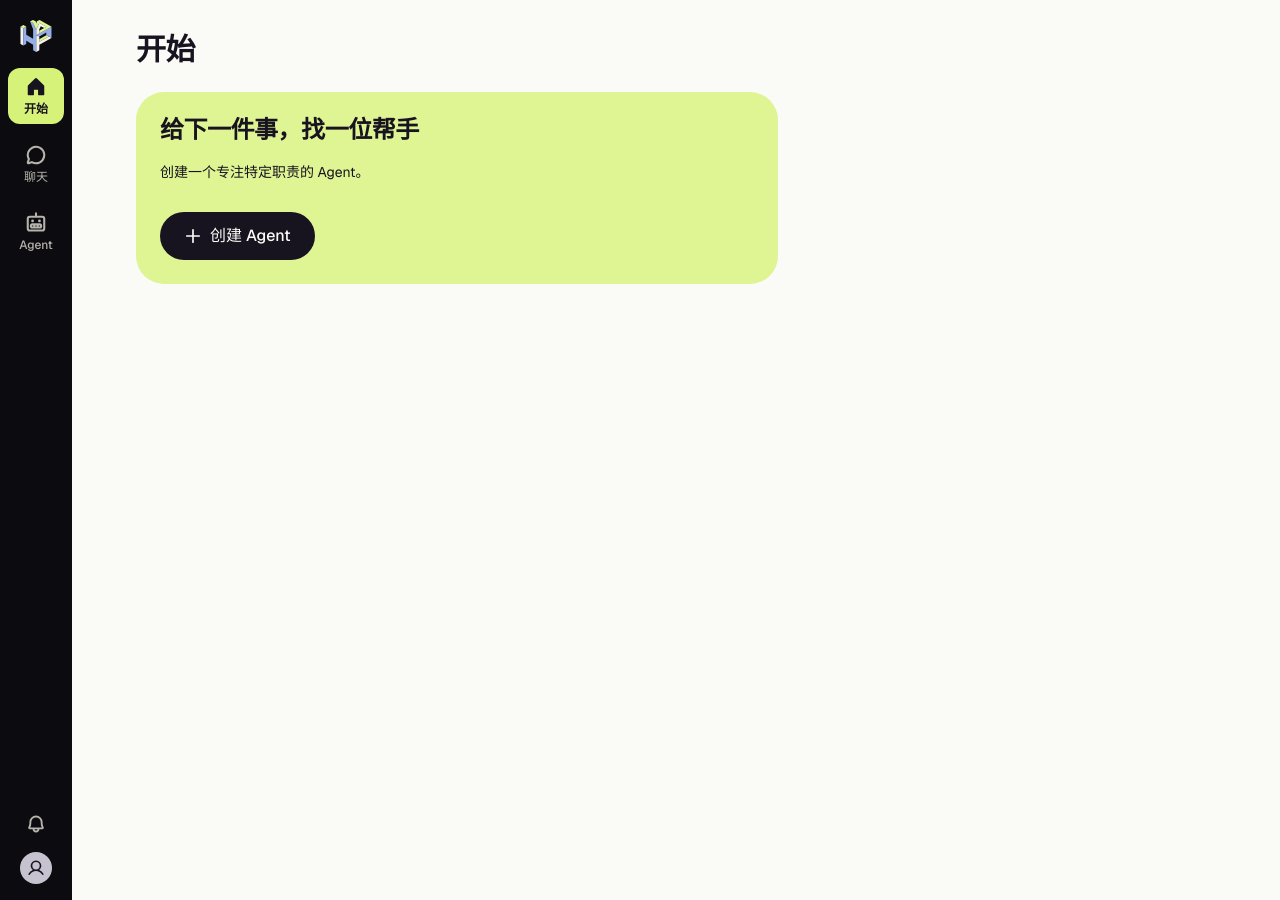
Scenario: J3 three entries › TC-001 opens the chat page from the main navigation and keeps one surface
The width and height of the screenshot is (1280, 900).
Click the button "聊天": click(36, 164) x1=8 y1=136 x2=64 y2=192
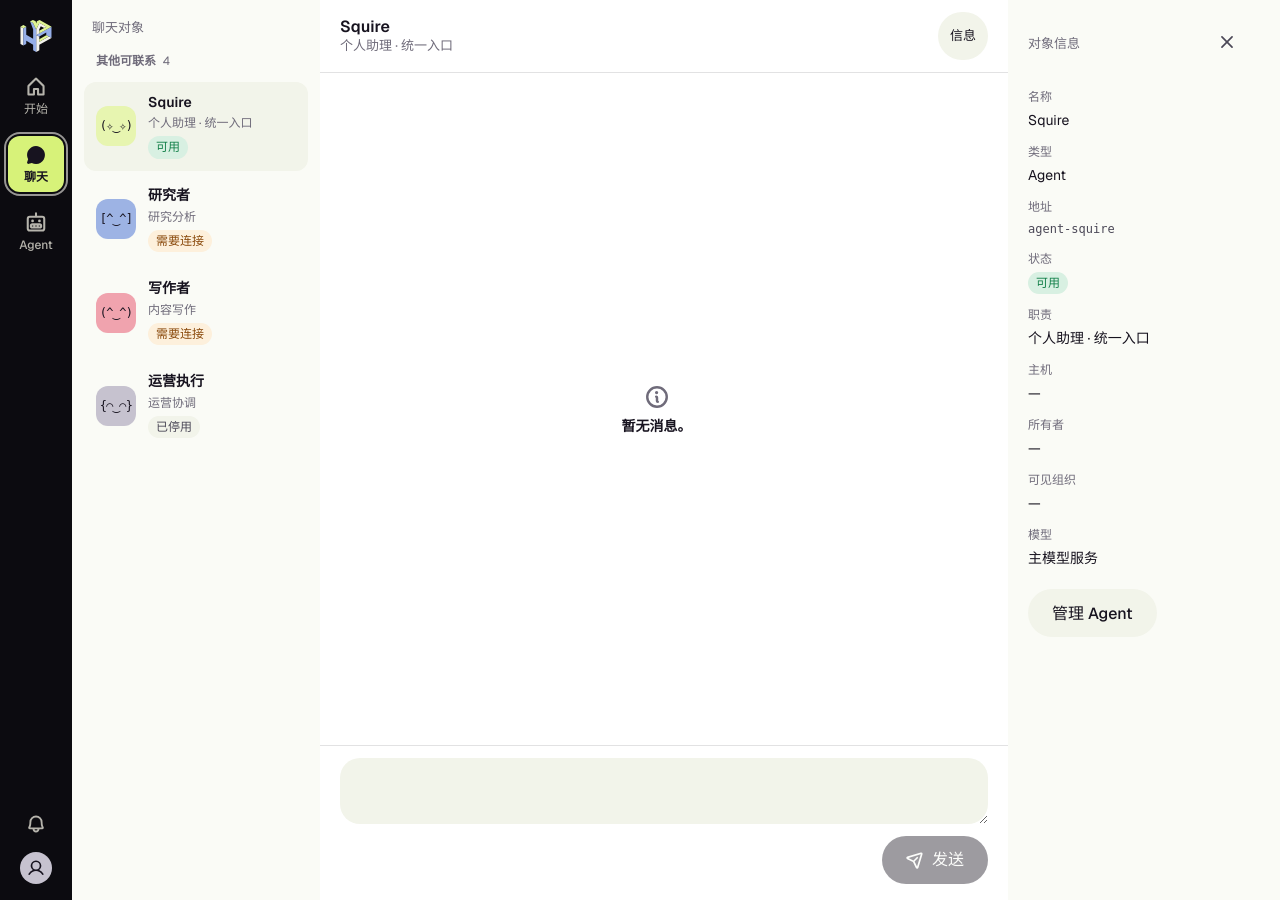
Result: the heading "Squire" is shown at x1=340 y1=16 x2=390 y2=37
Result: the element labelled "聊天对象" is shown at x1=72 y1=0 x2=320 y2=899
Result: the element labelled "对象信息" is shown at x1=1008 y1=0 x2=1279 y2=899
